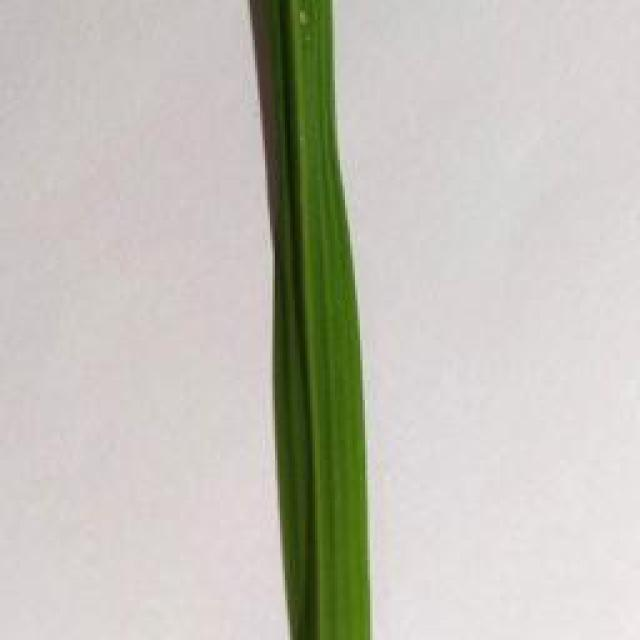Healthy-Plant: (265, 0, 372, 640)
